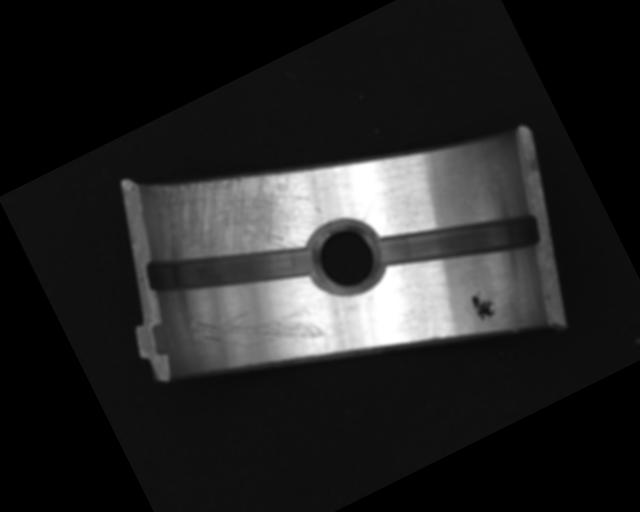blot: (465, 285, 503, 326)
gap: (139, 193, 322, 341), (372, 174, 547, 311)
hole: (303, 214, 392, 304)
nick: (190, 271, 326, 386)
scratch: (136, 123, 330, 306)
